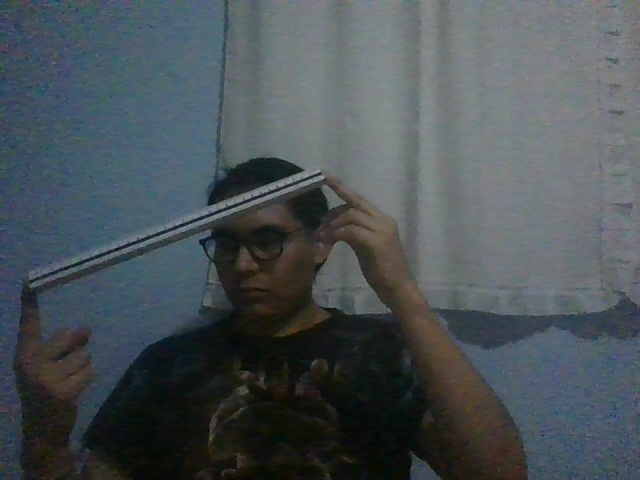regla: (26, 168, 325, 294)
